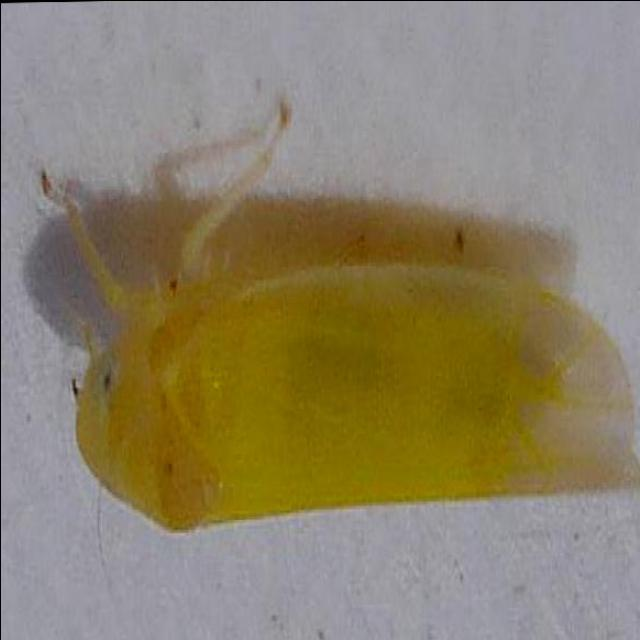green leaf hopper: (41, 104, 640, 530)
